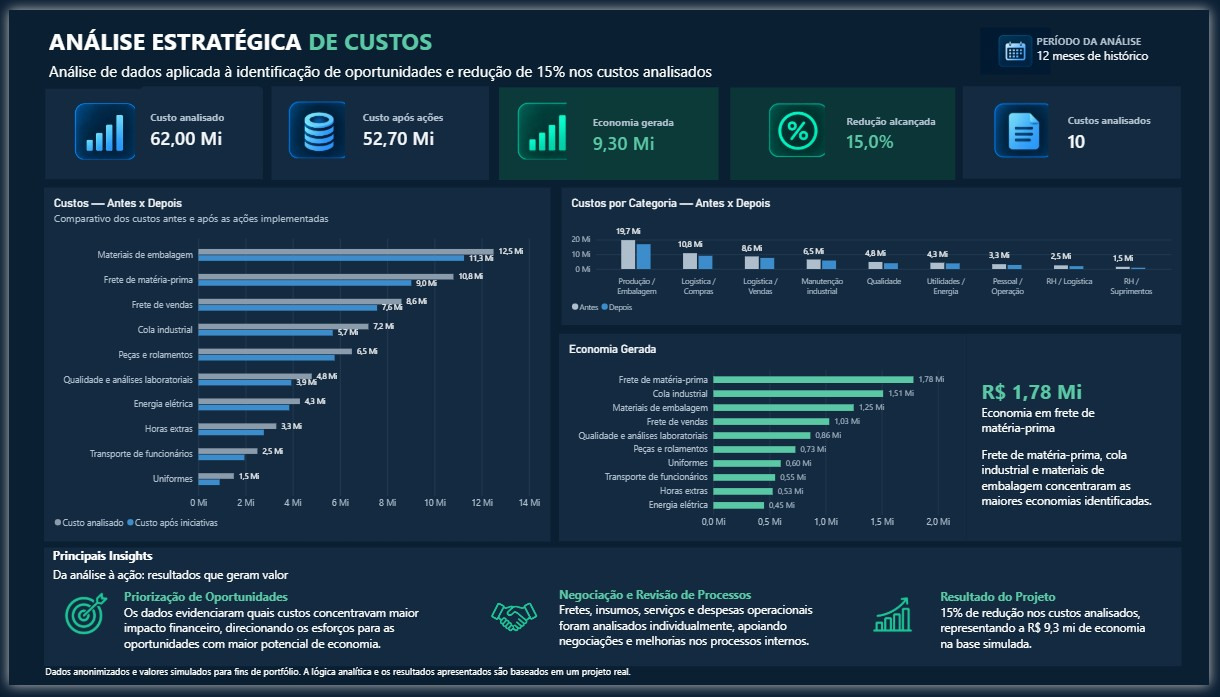

This screenshot's page, from the dashboard's own definition file:
{"tool":"powerbi","page":{"name":"visao-executiva","canvas":[1920,1080],"ordinal":0},"visuals":[{"type":"shape","box":[1526.7,122.6,348.9,147.8],"z":0},{"type":"shape","box":[1154,123.4,360,148],"z":1000},{"type":"shape","box":[784.5,123.1,350.9,148.2],"z":2000},{"type":"shape","box":[420.9,121.3,348.2,150],"z":3000},{"type":"shape","box":[58.3,125.4,348.3,145],"z":4000},{"type":"image","box":[1553,19.2,112.9,91.4],"z":5000},{"type":"shape","box":[1532.2,518.4,343.6,331.8],"z":6000},{"type":"cardVisual","title":"Gastos antes do projeto","fields":{"Data":["Fato_Fornecedores.Gasto Antes"]},"box":[210,122.1,196.7,141.1],"z":7000},{"type":"cardVisual","title":"Gastos após o projeto","fields":{"Data":["Fato_Fornecedores.Gasto Depois"]},"box":[549.5,123.4,194.4,137.8],"z":8000},{"type":"cardVisual","title":"Economia gerada","fields":{"Data":["Fato_Fornecedores.Economia"]},"box":[918.3,129.8,216.7,141.7],"z":9000},{"type":"cardVisual","title":"Redução nos custos","fields":{"Data":["Fato_Fornecedores.Redução %"]},"box":[1323,125,191,144],"z":10000},{"type":"cardVisual","title":"Iniciativas analisadas","fields":{"Data":["Count(Fato_Fornecedores.Fornecedor)"]},"box":[1678.9,130.4,182.2,135.6],"z":11000},{"type":"clusteredBarChart","title":"Custos — Antes x Depois","fields":{"Category":["Fato_Fornecedores.Fornecedor"],"Y":["Fato_Fornecedores.Gasto Antes","Fato_Fornecedores.Gasto Depois"]},"box":[56,284,810,566],"z":12000},{"type":"clusteredBarChart","title":"Economia Gerada","fields":{"Category":["Resumo_Fornecedores.Fornecedor"],"Y":["Sum(Resumo_Fornecedores.Economia_R$)"]},"box":[880,518,652,332],"z":13000},{"type":"lineClusteredColumnComboChart","title":"Custos por Categoria — Antes x Depois","fields":{"Category":["Resumo_Fornecedores.Categoria"],"Y":["Sum(Resumo_Fornecedores.Antes)","Sum(Resumo_Fornecedores.Depois)"]},"box":[884,284,992,220],"z":14000},{"type":"textbox","box":[63.2,24,774,54],"z":15000},{"type":"textbox","box":[63.2,82,1146,38],"z":16000},{"type":"textbox","box":[1644.2,38,200,54],"z":17000},{"type":"shape","box":[56,859.2,1820,190],"z":18000},{"type":"textbox","box":[70,859.2,200,156],"z":19000},{"type":"textbox","box":[184,925.2,474,124],"z":20000},{"type":"textbox","box":[880.3,922.9,431.7,105],"z":21000},{"type":"textbox","box":[1489,925.9,333.3,116.7],"z":22000},{"type":"image","box":[70.4,924.6,113.8,83.8],"z":23000},{"type":"image","box":[752,925.2,113.8,83.8],"z":24000},{"type":"image","box":[1354,925.2,113.8,83.8],"z":25000},{"type":"textbox","box":[70,889.2,422,30],"z":26000},{"type":"textbox","box":[1556,698,288,130],"z":27000},{"type":"textbox","box":[1556,588,246,96],"z":28000},{"type":"image","box":[96.7,148.7,112.9,91.4],"z":29000},{"type":"image","box":[436,146,112.9,91.4],"z":30000},{"type":"image","box":[795.7,148.6,112.9,91.4],"z":31000},{"type":"image","box":[1198,146,112.9,91.4],"z":32000},{"type":"image","box":[1554,146,112.9,91.4],"z":33000},{"type":"textbox","box":[58,1048,1038,32],"z":34000}]}

Visuals, with their boxes in screenshot pixels (x1, y1, x2, y2), scaled from the page's 1920x1080 canvas onto the 1220x697 screenshot:
shape: [x1=970, y1=79, x2=1192, y2=175]
shape: [x1=733, y1=80, x2=962, y2=175]
shape: [x1=498, y1=79, x2=721, y2=175]
shape: [x1=267, y1=78, x2=489, y2=175]
shape: [x1=37, y1=81, x2=258, y2=175]
image: [x1=987, y1=12, x2=1059, y2=71]
shape: [x1=974, y1=335, x2=1192, y2=549]
"Gastos antes do projeto" cardVisual: [x1=133, y1=79, x2=258, y2=170]
"Gastos após o projeto" cardVisual: [x1=349, y1=80, x2=473, y2=169]
"Economia gerada" cardVisual: [x1=584, y1=84, x2=721, y2=175]
"Redução nos custos" cardVisual: [x1=841, y1=81, x2=962, y2=174]
"Iniciativas analisadas" cardVisual: [x1=1067, y1=84, x2=1183, y2=172]
"Custos — Antes x Depois" clusteredBarChart: [x1=36, y1=183, x2=550, y2=549]
"Economia Gerada" clusteredBarChart: [x1=559, y1=334, x2=973, y2=549]
"Custos por Categoria — Antes x Depois" lineClusteredColumnComboChart: [x1=562, y1=183, x2=1192, y2=325]
textbox: [x1=40, y1=15, x2=532, y2=50]
textbox: [x1=40, y1=53, x2=768, y2=77]
textbox: [x1=1045, y1=25, x2=1172, y2=59]
shape: [x1=36, y1=555, x2=1192, y2=677]
textbox: [x1=44, y1=555, x2=172, y2=655]
textbox: [x1=117, y1=597, x2=418, y2=677]
textbox: [x1=559, y1=596, x2=834, y2=663]
textbox: [x1=946, y1=598, x2=1158, y2=673]
image: [x1=45, y1=597, x2=117, y2=651]
image: [x1=478, y1=597, x2=550, y2=651]
image: [x1=860, y1=597, x2=933, y2=651]
textbox: [x1=44, y1=574, x2=313, y2=593]
textbox: [x1=989, y1=450, x2=1172, y2=534]
textbox: [x1=989, y1=379, x2=1145, y2=441]
image: [x1=61, y1=96, x2=133, y2=155]
image: [x1=277, y1=94, x2=349, y2=153]
image: [x1=506, y1=96, x2=577, y2=155]
image: [x1=761, y1=94, x2=833, y2=153]
image: [x1=987, y1=94, x2=1059, y2=153]
textbox: [x1=37, y1=676, x2=696, y2=696]
